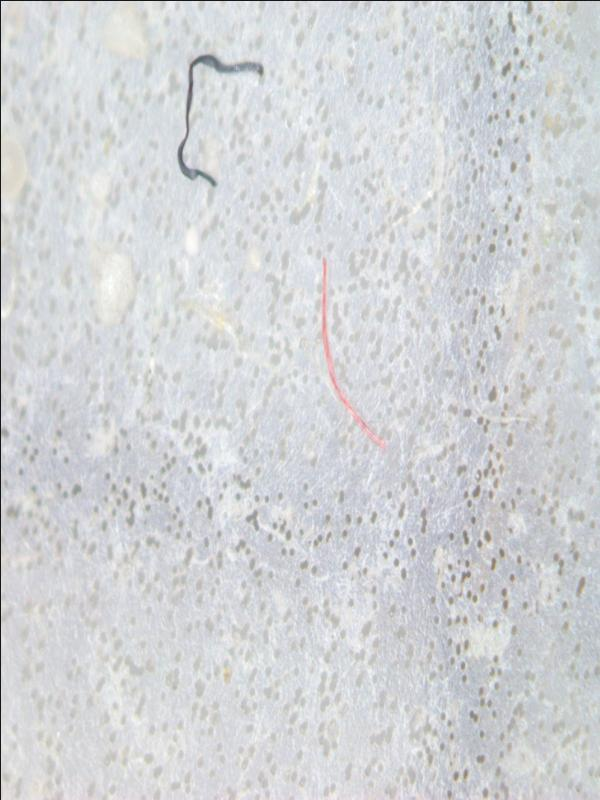microplastic: (1, 2, 599, 800), (318, 256, 385, 452), (175, 53, 263, 189)
